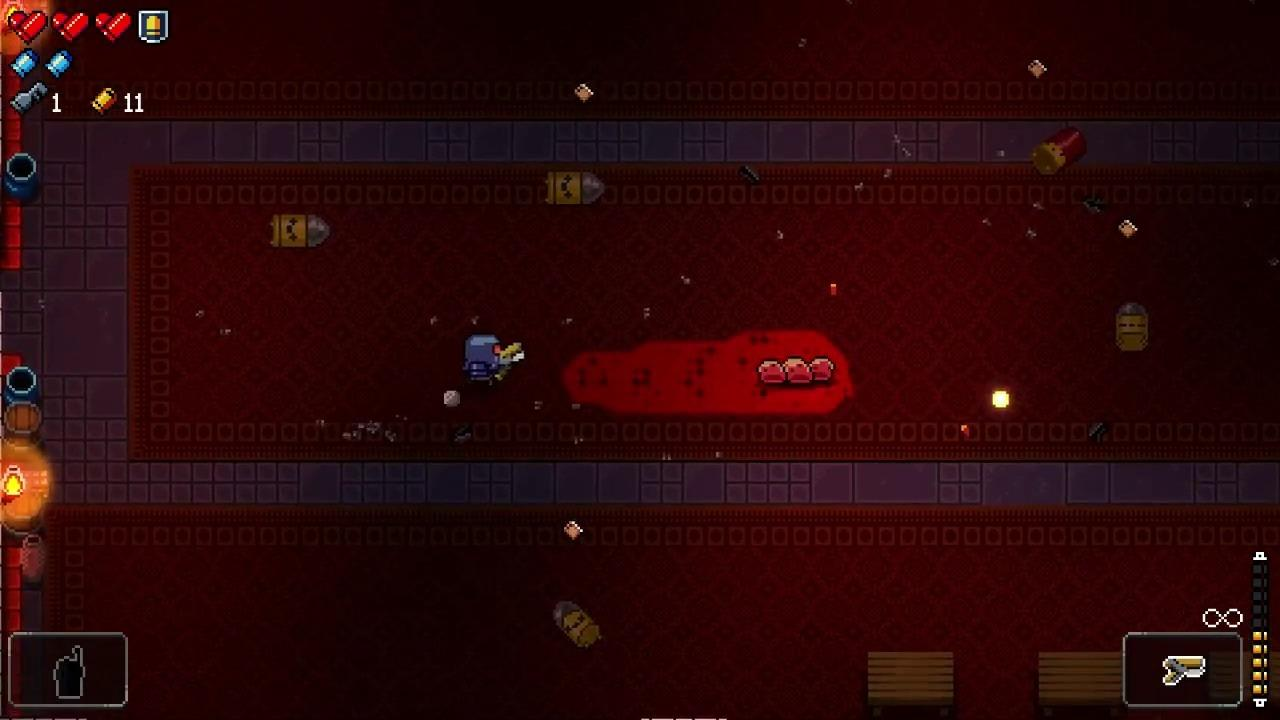blobulin_s: (786, 357, 814, 386), (758, 359, 786, 385), (810, 357, 836, 382)
dead_bullet_kin: (553, 601, 602, 648), (269, 213, 333, 248), (543, 170, 607, 205), (1116, 304, 1149, 353)
dead_red_shotgun_kin: (1031, 126, 1087, 176)
player: (466, 334, 503, 386)
table: (867, 651, 953, 716), (1038, 651, 1124, 716)
